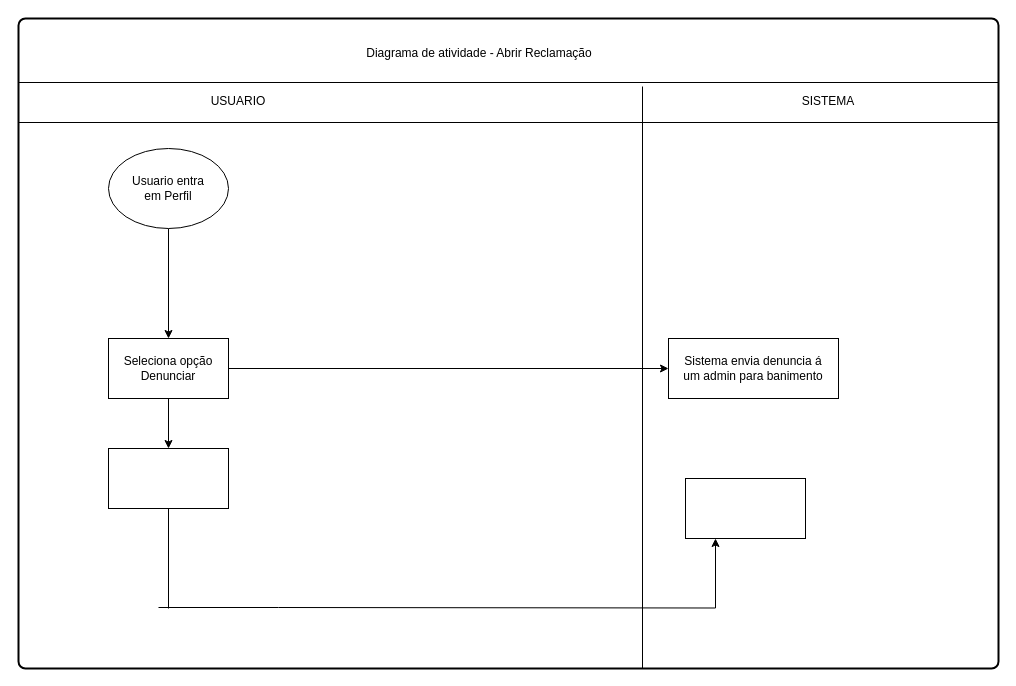
Image size: 1016x686. Some labels were removed from this diagram. The shapes that lost their labels are listed below. From the top down, each one's box as (x1, y1, x2, y2) in pixels, then its label:
(108, 448, 228, 508): Cria aviso em paginas relacionadas com usuario denunciado
(684, 478, 806, 538): Sistema Cria aviso e exibe aviso aos usuarios que acessarem pagina
